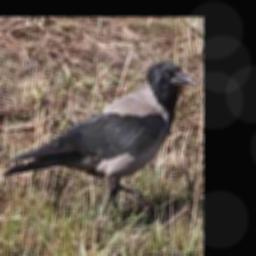Crow: (4, 61, 192, 214)
